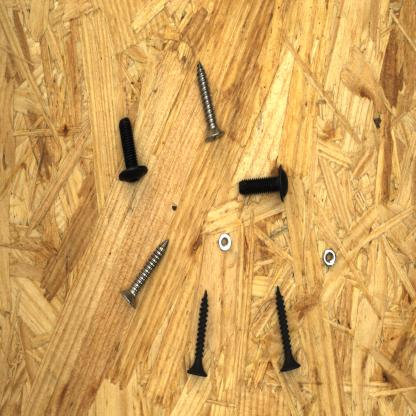screw: (117, 235, 172, 312), (193, 55, 226, 145), (110, 112, 150, 186), (271, 284, 303, 376), (184, 285, 212, 381), (234, 162, 292, 206)
